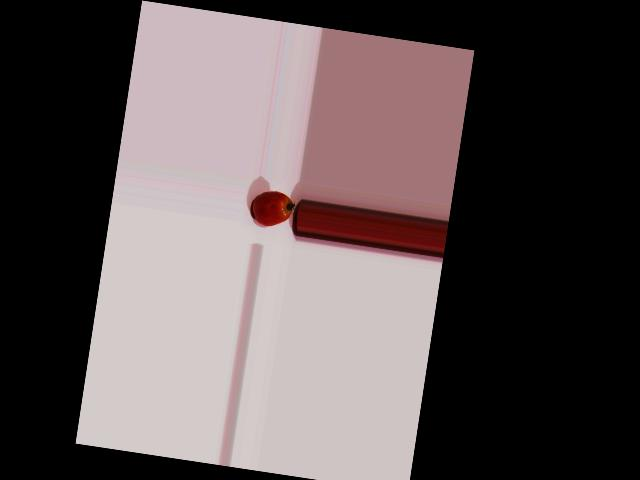tomato: (250, 188, 294, 229)
